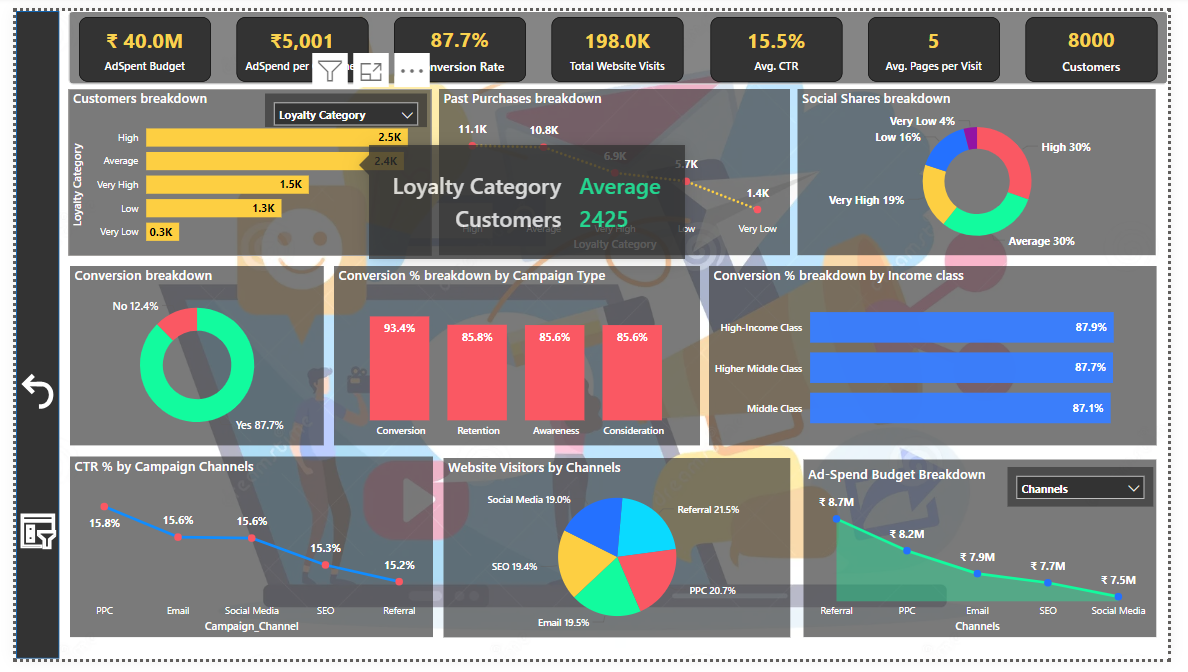

Layout of this report page (visuals, bound fields, positions):
{"tool":"powerbi","page":{"name":"Dashboard","canvas":[1280,720],"ordinal":0},"visuals":[{"type":"shape","box":[0,0,48.2,719.6],"z":0},{"type":"shape","box":[58.3,0,1221.7,81.7],"z":0,"group":"g1"},{"type":"clusteredBarChart","title":"Customers breakdown ","fields":{"Category":["Lookup Table.Age_Group #"],"Y":["DAX Measures.Total customers/ Visitors"]},"box":[57.8,86.7,403.2,184.6],"z":0,"group":"g3"},{"type":"lineChart","title":"Ad-Spend Budget Breakdown ","fields":{"Category":["Lookup Table.Campaign_Channel"],"Y":["DAX Measures.Total AdSpend Budget"]},"box":[874.4,498.7,391.9,197.5],"z":0,"group":"g2"},{"type":"group","id":"g1","title":"KPI Group","box":[58.3,0,1221.7,81.7],"z":1000},{"type":"card","fields":{"Values":["DAX Measures.Total AdSpend Budget"]},"box":[70,6.9,146.7,71.7],"z":1000,"group":"g1"},{"type":"slicer","fields":{"Values":["set-1: Customer attributes .set-1: Customer attributes "]},"box":[276.3,91.3,179.7,37.2],"z":1000,"group":"g3"},{"type":"slicer","fields":{"Values":["Set-2: Campaign attributes.Set-2: Campaign attributes"]},"box":[1100.4,506.6,161.9,43.7],"z":1000,"group":"g2"},{"type":"card","fields":{"Values":["DAX Measures.Avg Pages per visit"]},"box":[946.4,6.9,146.7,71.7],"z":2000,"group":"g1"},{"type":"donutChart","title":"Conversion breakdown","fields":{"Category":["Lookup Table.Conversion"],"Y":["DAX Measures.Total customers/ Visitors"]},"box":[59.9,283.4,281.7,199.2],"z":2000},{"type":"card","fields":{"Values":["DAX Measures.Total Website Visits"]},"box":[595.8,6.9,146.7,71.7],"z":3000,"group":"g1"},{"type":"columnChart","title":"Conversion % breakdown by Campaign Type","fields":{"Category":["Lookup Table.Campaign_Type"],"Y":["DAX Measures.Conversion %"]},"box":[353,283.4,406.4,199.2],"z":3000},{"type":"card","fields":{"Values":["DAX Measures.Avg AdSpend"]},"box":[245.2,6.9,146.7,71.7],"z":4000,"group":"g1"},{"type":"lineChart","title":"CTR % by Campaign Channels","fields":{"Y":["DAX Measures.Avg CTR"],"Category":["Lookup Table.Campaign_Channel"]},"box":[59.9,495.5,403.2,200.8],"z":4000},{"type":"card","fields":{"Values":["DAX Measures.Total customers/ Visitors"]},"box":[1121.6,6.9,146.7,71.7],"z":5000,"group":"g1"},{"type":"pieChart","title":"Website Visitors by Channels","fields":{"Category":["Lookup Table.Campaign_Channel"],"Y":["DAX Measures.Total customers/ Visitors"]},"box":[474.4,497.1,385.4,199.2],"z":5000},{"type":"card","fields":{"Values":["DAX Measures.Avg CTR"]},"box":[771.1,6.9,146.7,71.7],"z":6000,"group":"g1"},{"type":"group","id":"g2","title":"Ad-Spend Budget Breakdown","box":[874.4,498.7,391.9,197.5],"z":6000},{"type":"card","fields":{"Values":["DAX Measures.Conversion %"]},"box":[420.5,6.9,146.7,71.7],"z":7000,"group":"g1"},{"type":"clusteredBarChart","title":"Conversion % breakdown by Income class","fields":{"Y":["DAX Measures.Conversion %"],"Category":["Lookup Table.Incom_Level_Category #"]},"box":[770.8,283.4,497.1,199.2],"z":7000},{"type":"donutChart","title":"Social Shares breakdown","fields":{"Category":["Lookup Table.Age_Group #"],"Y":["Sum(Fact Table.Social_Shares)"]},"box":[867.9,87.4,398.3,184.6],"z":8000},{"type":"group","id":"g3","title":"Group 1","box":[57.8,86.7,403.2,184.6],"z":9000},{"type":"lineChart","title":"Past Purchases breakdown","fields":{"Category":["Lookup Table.Age_Group #"],"Y":["DAX Measures.Total Past Purchases"]},"box":[469.6,87.4,390.2,184.6],"z":10000},{"type":"actionButton","box":[0,383.8,48.6,77.7],"z":11000},{"type":"actionButton","box":[0,550.5,48.6,55.1],"z":12000}]}

Visuals, with their boxes in screenshot pixels (x1, y1, x2, y2):
shape: [left=9, top=6, right=53, bottom=665]
shape: [left=63, top=6, right=1181, bottom=81]
"Customers breakdown " clusteredBarChart: [left=62, top=86, right=431, bottom=255]
"Ad-Spend Budget Breakdown " lineChart: [left=810, top=463, right=1168, bottom=643]
"KPI Group" group: [left=63, top=6, right=1181, bottom=81]
card - DAX Measures.Total AdSpend Budget: [left=73, top=13, right=208, bottom=78]
slicer - set-1: Customer attributes .set-1: Customer attributes : [left=262, top=90, right=427, bottom=124]
slicer - Set-2: Campaign attributes.Set-2: Campaign attributes: [left=1016, top=470, right=1165, bottom=510]
card - DAX Measures.Avg Pages per visit: [left=876, top=13, right=1010, bottom=78]
"Conversion breakdown" donutChart: [left=64, top=266, right=322, bottom=448]
card - DAX Measures.Total Website Visits: [left=555, top=13, right=689, bottom=78]
"Conversion % breakdown by Campaign Type" columnChart: [left=332, top=266, right=704, bottom=448]
card - DAX Measures.Avg AdSpend: [left=234, top=13, right=368, bottom=78]
"CTR % by Campaign Channels" lineChart: [left=64, top=460, right=433, bottom=644]
card - DAX Measures.Total customers/ Visitors: [left=1036, top=13, right=1170, bottom=78]
"Website Visitors by Channels" pieChart: [left=443, top=461, right=796, bottom=644]
card - DAX Measures.Avg CTR: [left=715, top=13, right=849, bottom=78]
"Ad-Spend Budget Breakdown" group: [left=810, top=463, right=1168, bottom=643]
card - DAX Measures.Conversion %: [left=394, top=13, right=528, bottom=78]
"Conversion % breakdown by Income class" clusteredBarChart: [left=715, top=266, right=1170, bottom=448]
"Social Shares breakdown" donutChart: [left=804, top=86, right=1168, bottom=255]
"Group 1" group: [left=62, top=86, right=431, bottom=255]
"Past Purchases breakdown" lineChart: [left=439, top=86, right=796, bottom=255]
actionButton: [left=9, top=357, right=54, bottom=429]
actionButton: [left=9, top=510, right=54, bottom=560]
